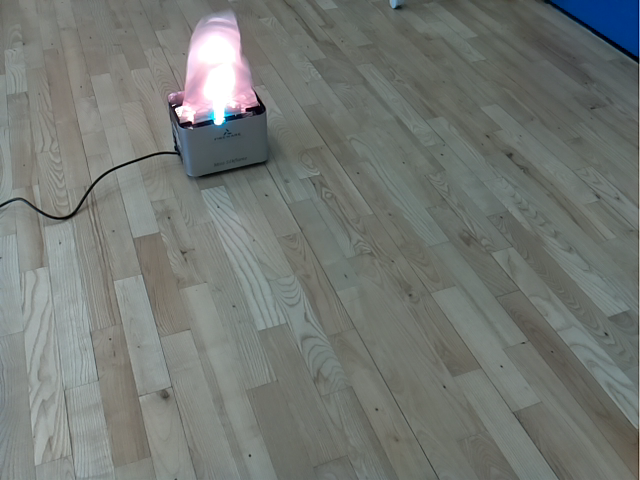fire: (179, 10, 260, 124)
